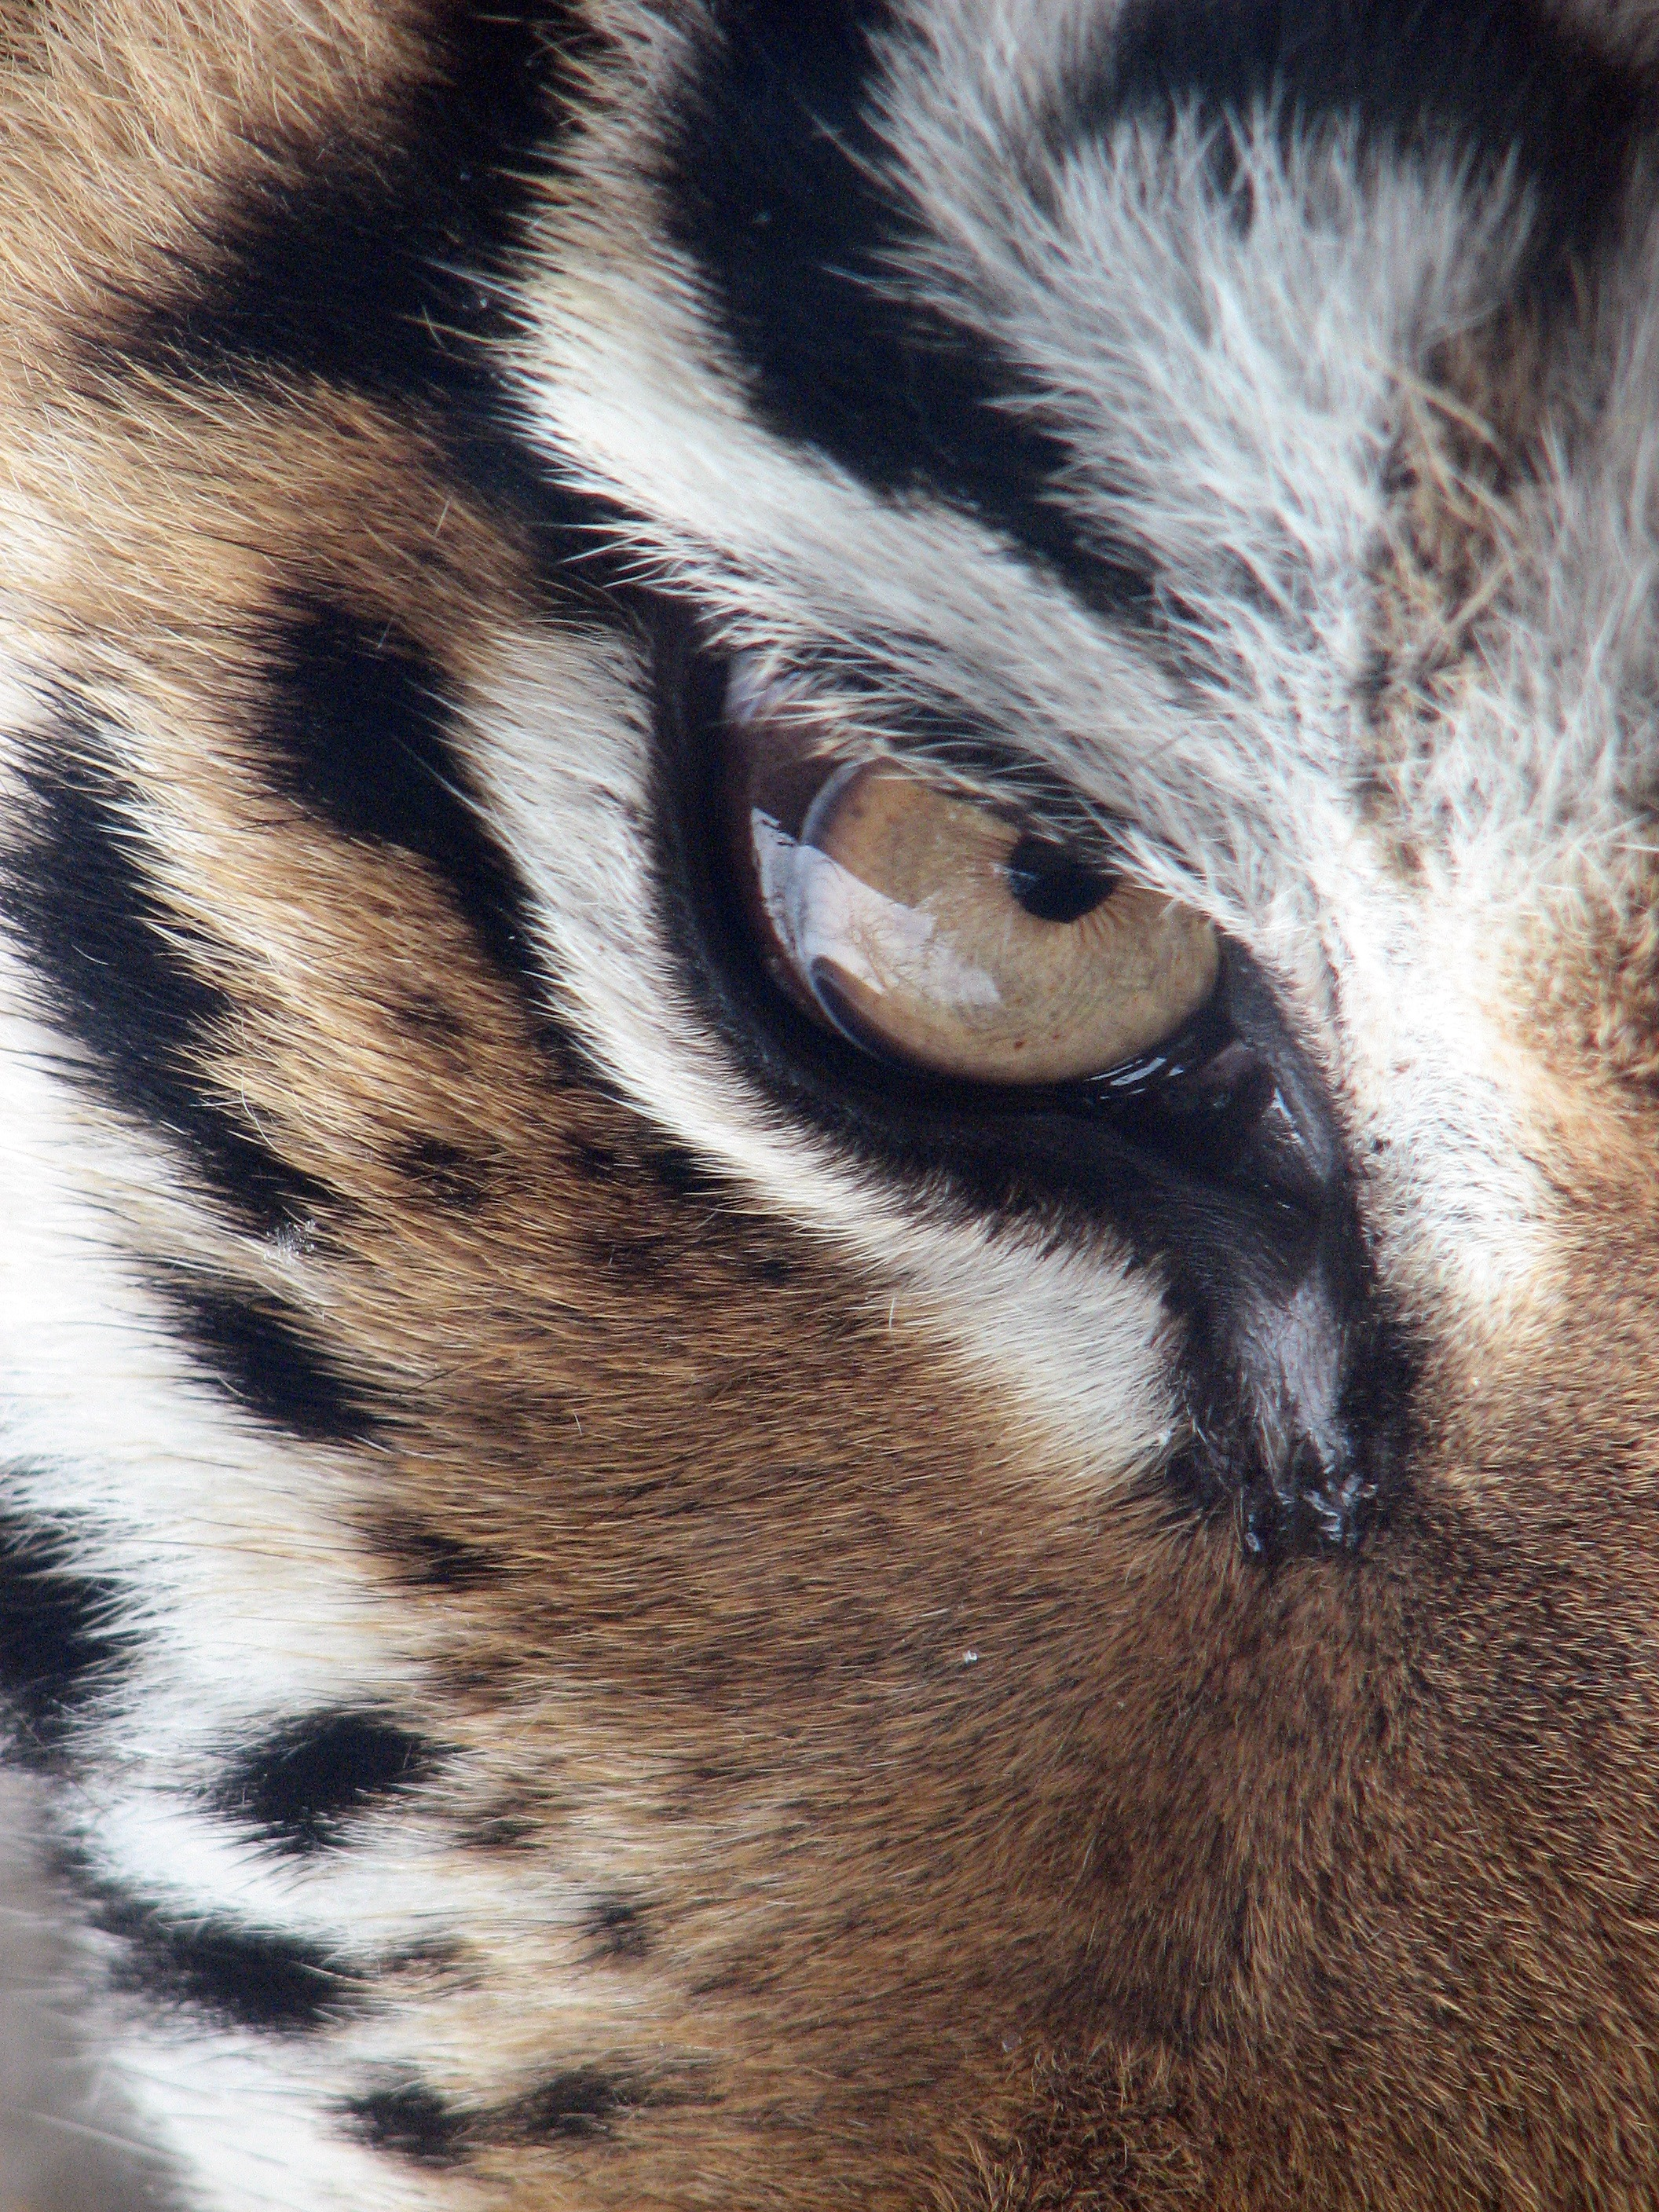tiger: (31, 42, 1601, 2099)
